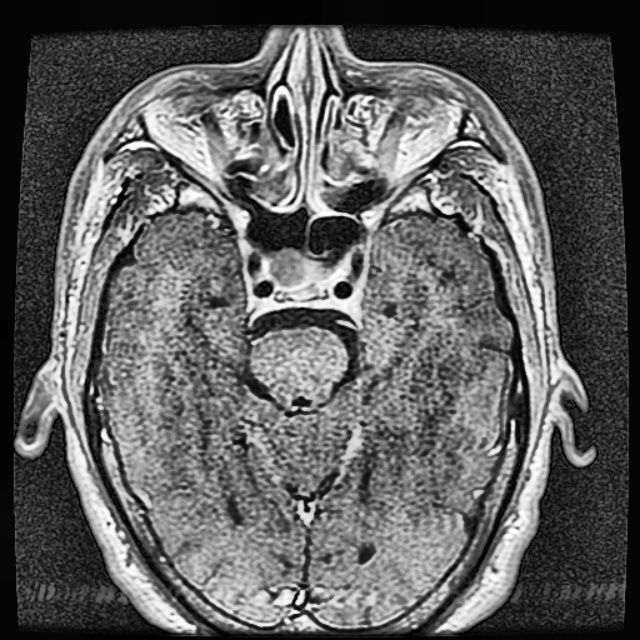Pituitary: (267, 249, 318, 289)
